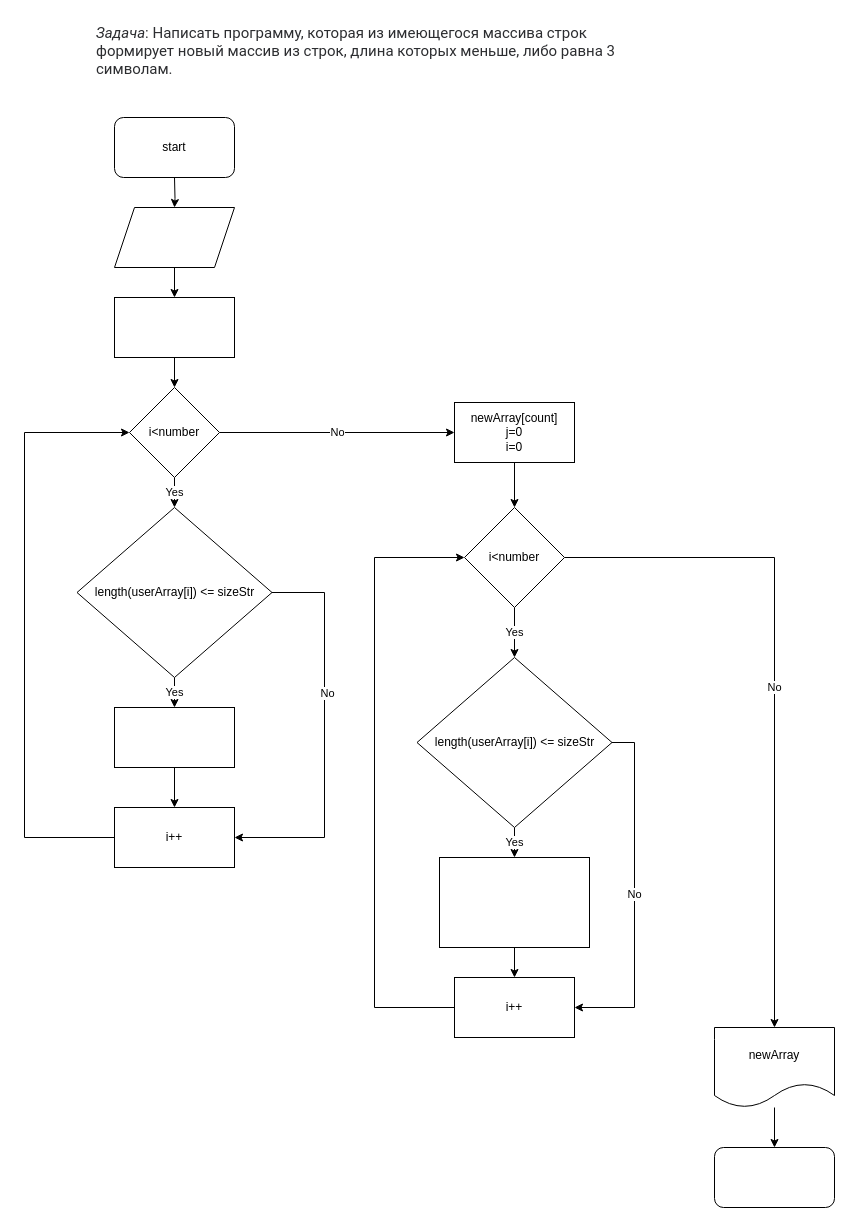
Image size: 852x1225. Some labels were removed from this diagram. The centre of each missing label's shape, as x and y in pixels:
count++: point 174,737
End: point 774,1177
newArray[j]=userArray[i] j++: point 514,902
sizeStr=3 i=0 count=0: point 174,327
userArray[number]: point 174,237
